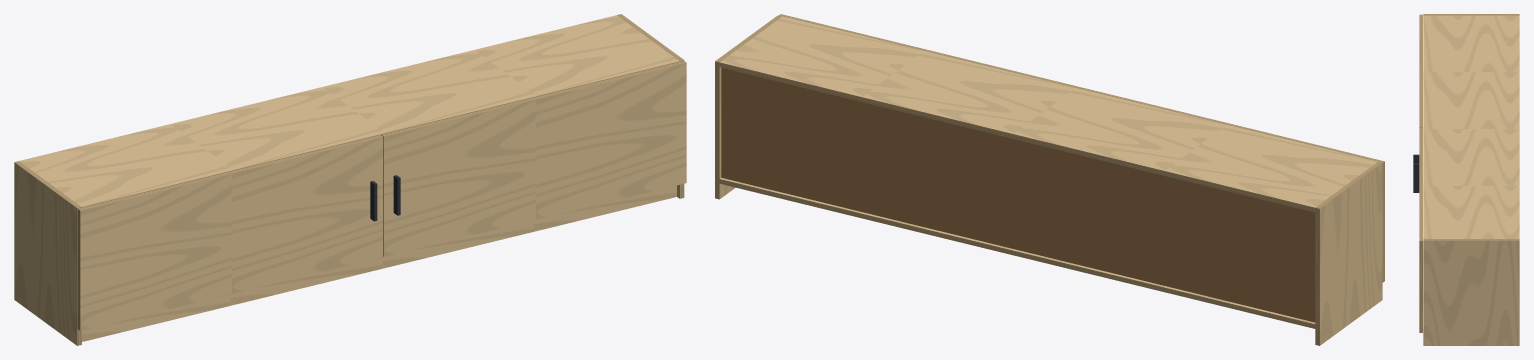
The model's file is SAB-MED-long.glb.
3 renders of one model, left to right at view 1: azimuth 30°, elevation 25°; view 2: azimuth 150°, elevation 25°; view 3: azimuth 270°, elevation 25°, orthographic. The views are drawn at different scales.
Parts seen in each view (by area): view 1: top:sheet:eyJtIjoicGx5Iiwic2lkZSI6ImZhY2UiLCJzZWVkIjo2LCJ2ZW, door-l:sheet:eyJtIjoicGx5Iiwic2lkZSI6ImZhY2UiLCJzZWVkIjoyLCJ, door-r:sheet:eyJtIjoicGx5Iiwic2lkZSI6ImZhY2UiLCJzZWVkIjoyLCJ, side-l:sheet:eyJtIjoicGx5Iiwic2lkZSI6ImZhY2UiLCJzZWVkIjoxLCJ, plinth:sheet:eyJtIjoicGx5Iiwic2lkZSI6ImZhY2UiLCJzZWVkIjozLCJ, door-l:sheet:eyJtIjoicGx5Iiwic2lkZSI6ImVkZ2UtbG9uZyIsInNlZWQ, door-r:sheet:eyJtIjoicGx5Iiwic2lkZSI6ImVkZ2UtbG9uZyIsInNlZWQ, top:sheet:eyJtIjoicGx5Iiwic2lkZSI6ImVkZ2UtbG9uZyIsInNlZWQiOj, pull; view 2: back:sheet:eyJtIjoibWRmIiwic2lkZSI6ImZhY2UiLCJzZWVkIjoxLCJ0a, top:sheet:eyJtIjoicGx5Iiwic2lkZSI6ImZhY2UiLCJzZWVkIjo2LCJ2ZW, side-l:sheet:eyJtIjoicGx5Iiwic2lkZSI6ImZhY2UiLCJzZWVkIjoxLCJ, top:sheet:eyJtIjoicGx5Iiwic2lkZSI6ImVkZ2UtbG9uZyIsInNlZWQiOj, bottom:sheet:eyJtIjoicGx5Iiwic2lkZSI6ImVkZ2UtbG9uZyIsInNlZWQ, bottom:sheet:eyJtIjoicGx5Iiwic2lkZSI6ImZhY2UiLCJzZWVkIjowLCJ, door-l:sheet:eyJtIjoicGx5Iiwic2lkZSI6ImVkZ2UtbG9uZyIsInNlZWQ, door-r:sheet:eyJtIjoicGx5Iiwic2lkZSI6ImVkZ2UtbG9uZyIsInNlZWQ, side-l:sheet:eyJtIjoicGx5Iiwic2lkZSI6ImVkZ2UtbG9uZyIsInNlZWQ, side-r:sheet:eyJtIjoicGx5Iiwic2lkZSI6ImVkZ2UtbG9uZyIsInNlZWQ; view 3: top:sheet:eyJtIjoicGx5Iiwic2lkZSI6ImZhY2UiLCJzZWVkIjo2LCJ2ZW, side-r:sheet:eyJtIjoicGx5Iiwic2lkZSI6ImZhY2UiLCJzZWVkIjozLCJ, door-l:sheet:eyJtIjoicGx5Iiwic2lkZSI6ImVkZ2UtbG9uZyIsInNlZWQ, door-r:sheet:eyJtIjoicGx5Iiwic2lkZSI6ImVkZ2UtbG9uZyIsInNlZWQ, door-r:sheet:eyJtIjoicGx5Iiwic2lkZSI6ImVkZ2UtZW5kIiwic2VlZCI, pull, side-l:sheet:eyJtIjoicGx5Iiwic2lkZSI6ImVkZ2UtZW5kIiwic2VlZCI, side-r:sheet:eyJtIjoicGx5Iiwic2lkZSI6ImVkZ2UtZW5kIiwic2VlZCI.
Boxes of the visible parts, x1,y1,x2,y2 form: top:sheet:eyJtIjoicGx5Iiwic2lkZSI6ImZhY2UiLCJzZWVkIjo2LCJ2ZW: (19, 15, 679, 206); door-l:sheet:eyJtIjoicGx5Iiwic2lkZSI6ImZhY2UiLCJzZWVkIjoyLCJ: (80, 137, 383, 330); door-r:sheet:eyJtIjoicGx5Iiwic2lkZSI6ImZhY2UiLCJzZWVkIjoyLCJ: (384, 63, 686, 256); side-l:sheet:eyJtIjoicGx5Iiwic2lkZSI6ImZhY2UiLCJzZWVkIjoxLCJ: (14, 162, 77, 345); plinth:sheet:eyJtIjoicGx5Iiwic2lkZSI6ImZhY2UiLCJzZWVkIjozLCJ: (82, 185, 676, 341); door-l:sheet:eyJtIjoicGx5Iiwic2lkZSI6ImVkZ2UtbG9uZyIsInNlZWQ: (78, 135, 382, 210); door-r:sheet:eyJtIjoicGx5Iiwic2lkZSI6ImVkZ2UtbG9uZyIsInNlZWQ: (381, 61, 686, 136); top:sheet:eyJtIjoicGx5Iiwic2lkZSI6ImVkZ2UtbG9uZyIsInNlZWQiOj: (82, 61, 679, 207); pull: (370, 175, 400, 221); back:sheet:eyJtIjoibWRmIiwic2lkZSI6ImZhY2UiLCJzZWVkIjoxLCJ0a: (721, 67, 1315, 322); top:sheet:eyJtIjoicGx5Iiwic2lkZSI6ImZhY2UiLCJzZWVkIjo2LCJ2ZW: (720, 16, 1377, 207); side-l:sheet:eyJtIjoicGx5Iiwic2lkZSI6ImZhY2UiLCJzZWVkIjoxLCJ: (1320, 163, 1382, 345); top:sheet:eyJtIjoicGx5Iiwic2lkZSI6ImVkZ2UtbG9uZyIsInNlZWQiOj: (719, 62, 1315, 212); bottom:sheet:eyJtIjoicGx5Iiwic2lkZSI6ImVkZ2UtbG9uZyIsInNlZWQ: (719, 179, 1315, 328); bottom:sheet:eyJtIjoicGx5Iiwic2lkZSI6ImZhY2UiLCJzZWVkIjowLCJ: (720, 177, 1315, 323); door-l:sheet:eyJtIjoicGx5Iiwic2lkZSI6ImVkZ2UtbG9uZyIsInNlZWQ: (1081, 88, 1384, 162); door-r:sheet:eyJtIjoicGx5Iiwic2lkZSI6ImVkZ2UtbG9uZyIsInNlZWQ: (779, 14, 1081, 88); side-l:sheet:eyJtIjoicGx5Iiwic2lkZSI6ImVkZ2UtbG9uZyIsInNlZWQ: (1315, 208, 1319, 345); side-r:sheet:eyJtIjoicGx5Iiwic2lkZSI6ImVkZ2UtbG9uZyIsInNlZWQ: (715, 61, 719, 199); top:sheet:eyJtIjoicGx5Iiwic2lkZSI6ImZhY2UiLCJzZWVkIjo2LCJ2ZW: (1423, 15, 1519, 238); side-r:sheet:eyJtIjoicGx5Iiwic2lkZSI6ImZhY2UiLCJzZWVkIjozLCJ: (1423, 240, 1519, 345); door-l:sheet:eyJtIjoicGx5Iiwic2lkZSI6ImVkZ2UtbG9uZyIsInNlZWQ: (1419, 14, 1422, 127); door-r:sheet:eyJtIjoicGx5Iiwic2lkZSI6ImVkZ2UtbG9uZyIsInNlZWQ: (1419, 128, 1422, 240); door-r:sheet:eyJtIjoicGx5Iiwic2lkZSI6ImVkZ2UtZW5kIiwic2VlZCI: (1419, 241, 1422, 332); pull: (1413, 154, 1419, 192); side-l:sheet:eyJtIjoicGx5Iiwic2lkZSI6ImVkZ2UtZW5kIiwic2VlZCI: (1423, 14, 1519, 15); side-r:sheet:eyJtIjoicGx5Iiwic2lkZSI6ImVkZ2UtZW5kIiwic2VlZCI: (1423, 239, 1519, 240).
Size of the model in its own units: 2.4 by 0.52 by 0.4769.
Materials: 34 (33 with a texture image).
